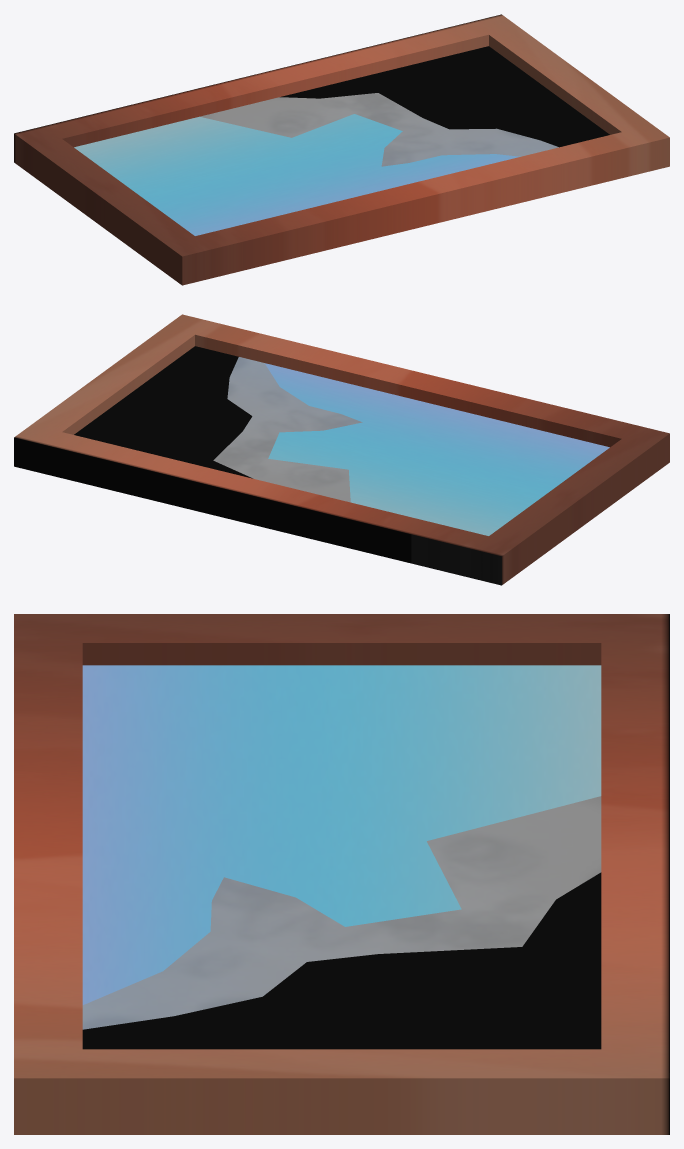
The model's file is painting.fbx.
3 renders of one model, top to bottom at view 1: azimuth 30°, elevation 25°; view 2: azimuth 150°, elevation 25°; view 3: azimuth 270°, elevation 25°, orthographic. The views are drawn at different scales.
Visible parts, largest first — view 1: pCube63; view 2: pCube63; view 3: pCube63.
Part boxes in pixels (x1,y1,x2,y2): pCube63: (14,14,669,285); pCube63: (14,314,669,585); pCube63: (14,614,669,1134).
Bounding box in the file's own units: 559 × 31.77 × 334.
